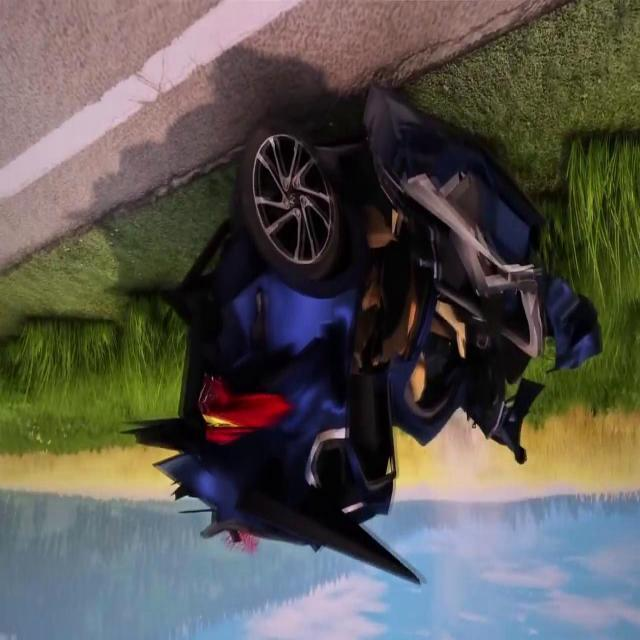severe: (138, 78, 606, 596)
